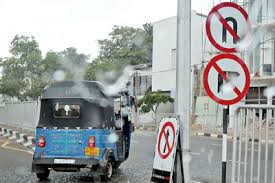tuk tuk: (30, 78, 134, 182)
